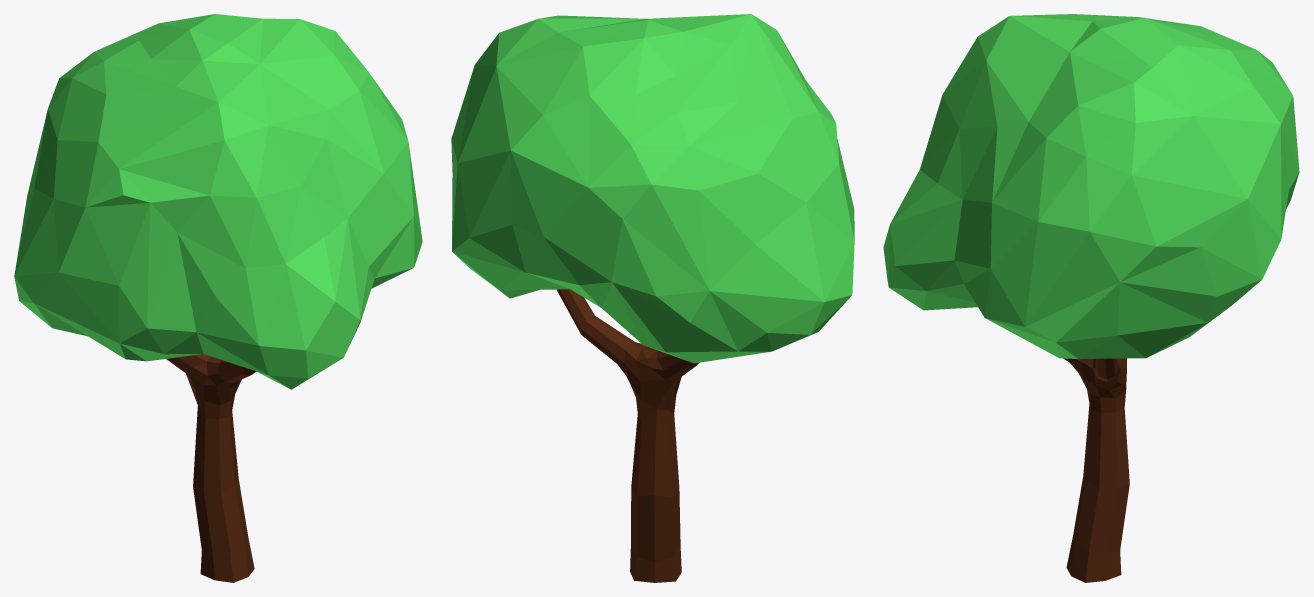
Rendered from Tree.fbx.
3 renders of one model, left to right at view 1: azimuth 30°, elevation 25°; view 2: azimuth 150°, elevation 25°; view 3: azimuth 270°, elevation 25°, orthographic. The views are drawn at different scales.
Visible parts, largest first — view 1: Tree; view 2: Tree; view 3: Tree.
Boxes of the visible parts, box(x1,y1,x2,y2) form: Tree: box(14, 14, 422, 582); Tree: box(451, 14, 854, 582); Tree: box(883, 14, 1299, 582).
Bounding box in the file's own units: 356 × 495 × 341.
